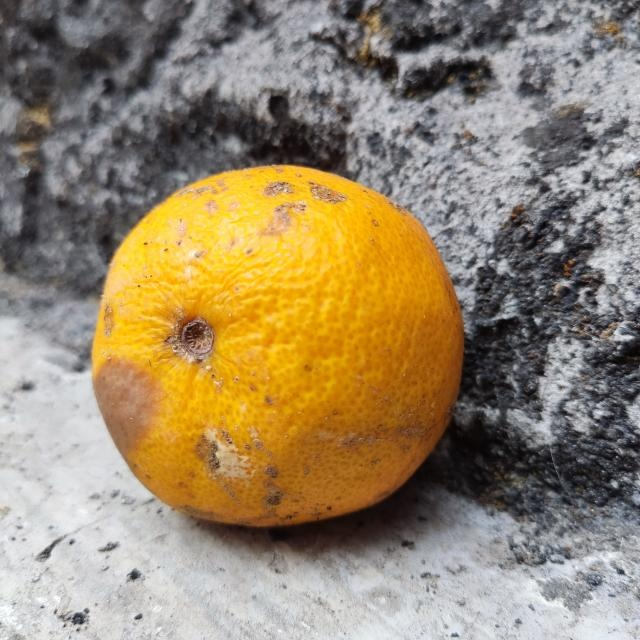agrume: (91, 162, 465, 530)
